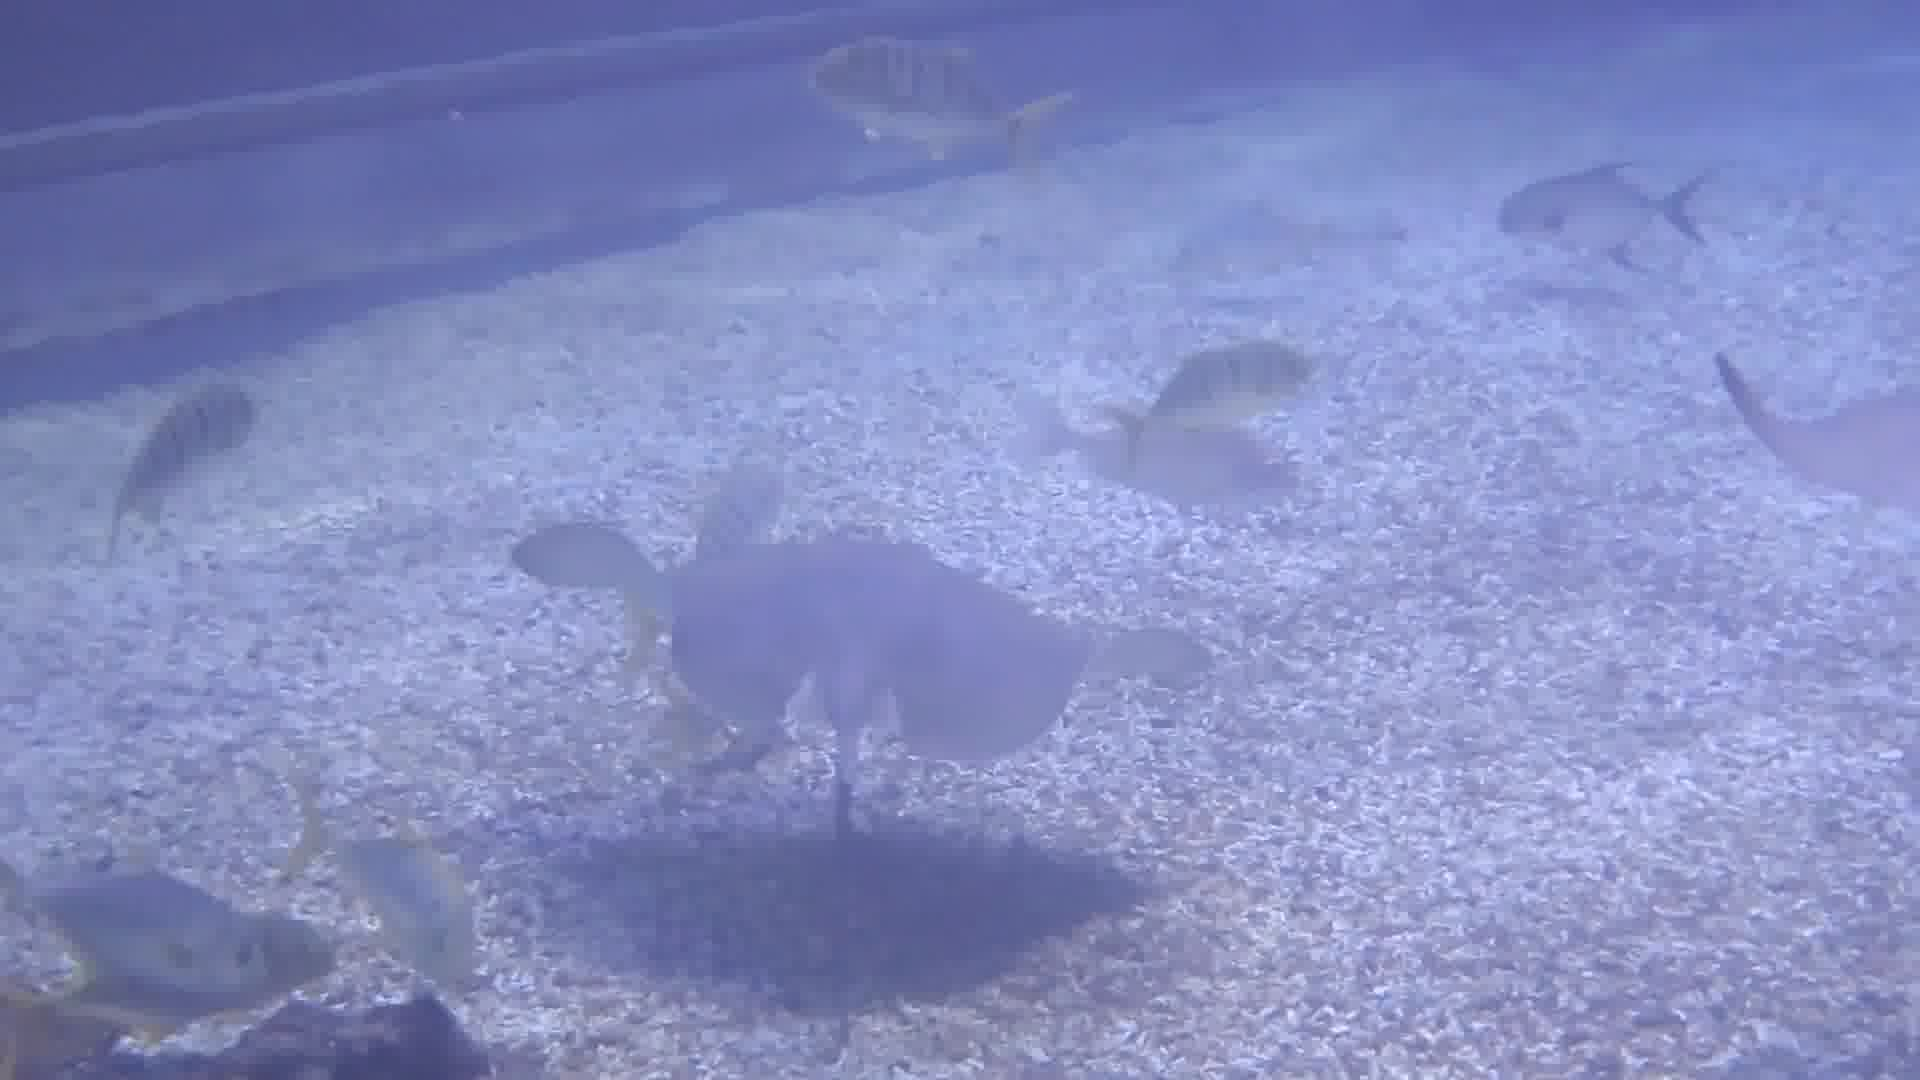Dasyatis akajei: (484, 439, 1309, 1077)
